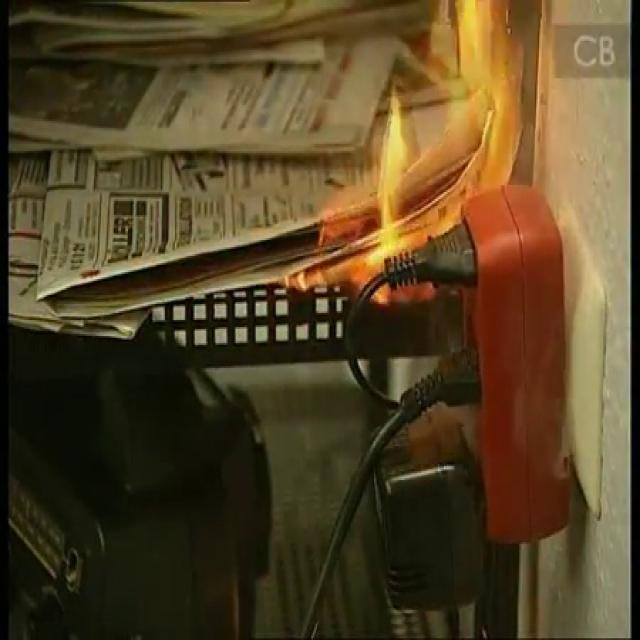fire: (292, 8, 539, 300)
